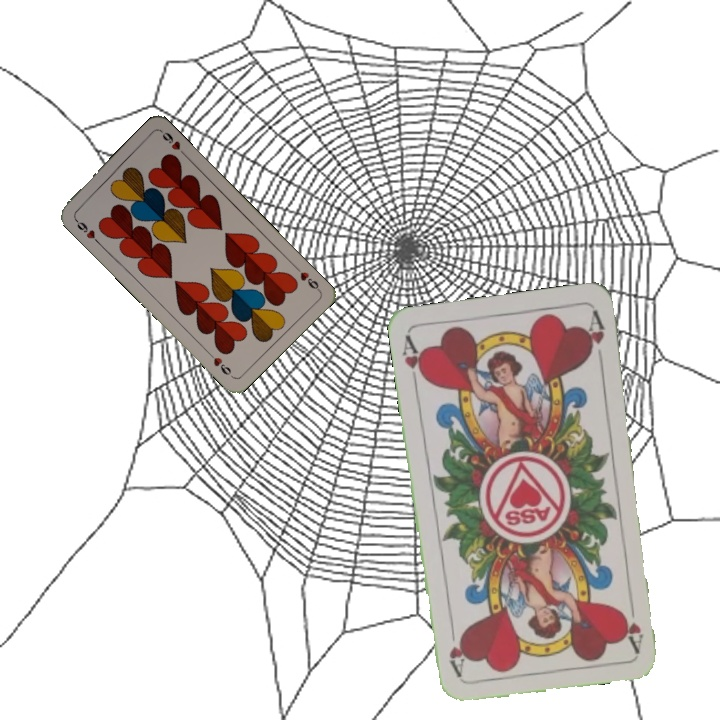H9: (290, 262, 322, 294), (70, 214, 102, 246)
HA: (398, 331, 429, 390), (621, 594, 646, 653)
